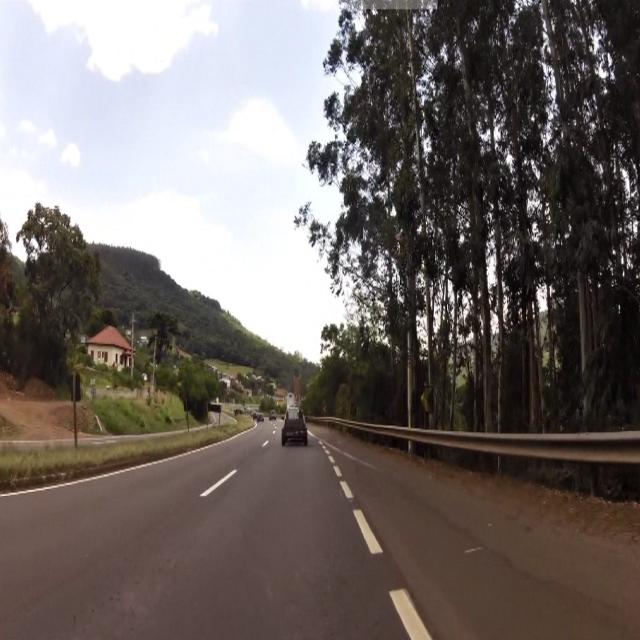Del: (420, 385, 437, 415)
